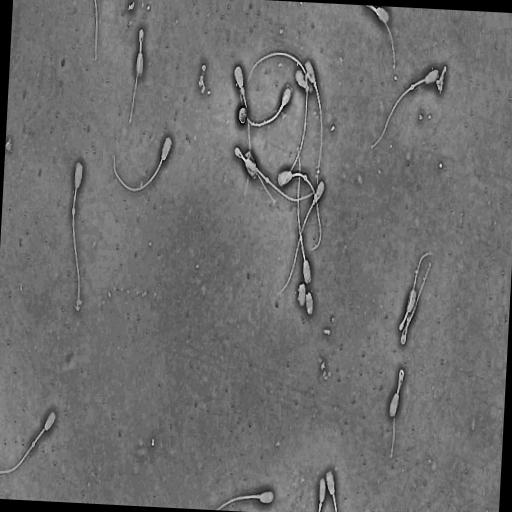dirt-particles: (436, 64, 447, 95), (197, 63, 206, 95), (238, 107, 247, 125)
distal-droplet: (30, 440, 37, 449), (265, 176, 269, 184), (410, 84, 415, 90), (303, 174, 307, 181), (72, 207, 76, 214), (300, 234, 303, 242)
folded-tail: (401, 265, 430, 345), (399, 253, 429, 330), (235, 148, 273, 201), (129, 29, 143, 122), (391, 370, 404, 457), (398, 372, 402, 391), (140, 31, 142, 50)
loose-head: (305, 291, 315, 317), (297, 283, 307, 309)
loose-tail: (93, 0, 98, 62)
normal: (277, 179, 325, 297), (370, 69, 440, 149), (244, 150, 316, 202), (277, 169, 322, 252), (0, 409, 56, 473), (113, 136, 172, 192), (282, 68, 309, 186), (247, 51, 315, 95), (398, 251, 432, 332), (400, 261, 432, 347), (303, 61, 323, 194), (234, 146, 277, 205), (296, 146, 313, 286), (233, 64, 251, 196), (238, 85, 292, 127), (71, 158, 84, 307), (387, 367, 404, 459), (129, 28, 144, 124), (215, 489, 274, 510)
proximal-droplet: (240, 86, 244, 95), (305, 84, 309, 93), (312, 198, 316, 205), (279, 106, 283, 112), (314, 81, 317, 88), (257, 495, 260, 499)
